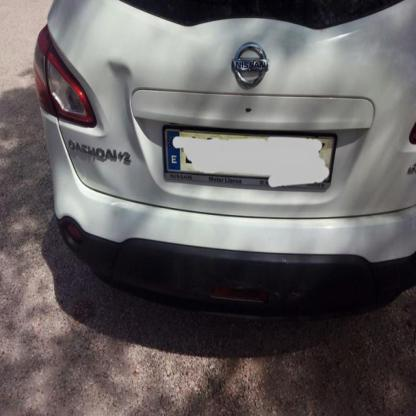headlamp: (34, 23, 96, 126)
rear_bumper: (41, 108, 416, 318)
